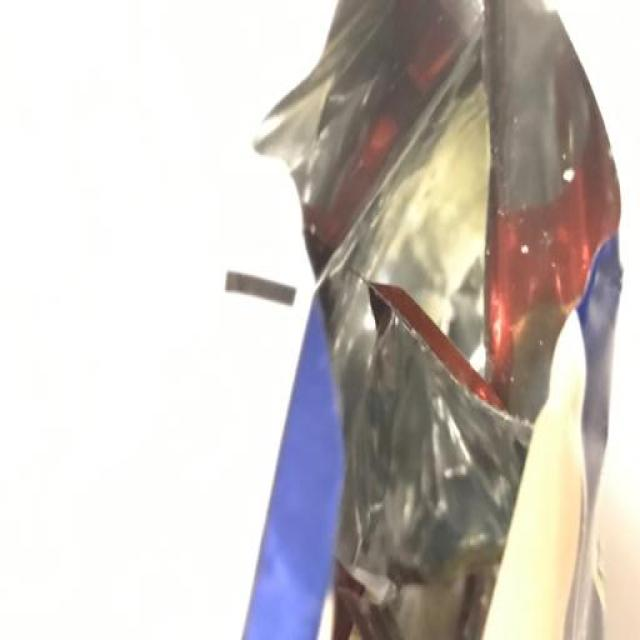plastic: (203, 1, 637, 640)
